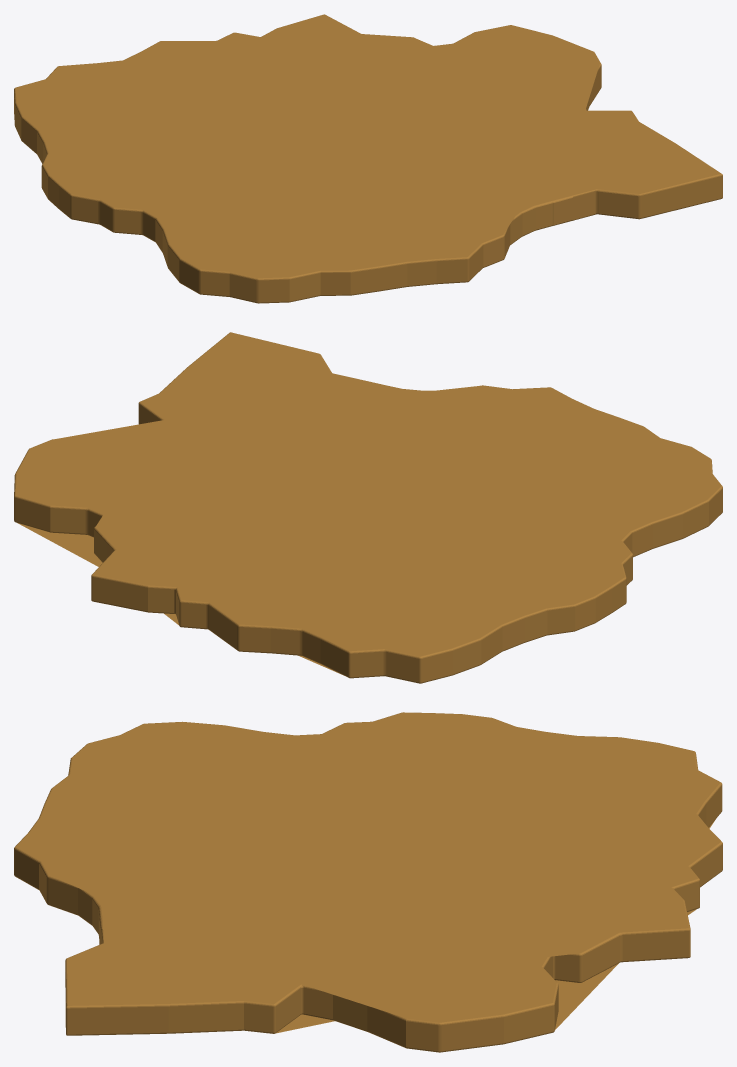
Rendered from AutumnContinentLatest.fbx.
The picture shows the model from 3 angles, top to bottom: view 1: azimuth 30°, elevation 25°; view 2: azimuth 150°, elevation 25°; view 3: azimuth 270°, elevation 25°; orthographic projection. The views are drawn at different scales.
Parts seen in each view (by area): view 1: Autumn Continent; view 2: Autumn Continent; view 3: Autumn Continent.
Boxes of the visible parts, bbox=[...] form: Autumn Continent: bbox=[14, 14, 722, 303]; Autumn Continent: bbox=[14, 332, 722, 683]; Autumn Continent: bbox=[14, 712, 722, 1052].
Bounding box in the file's own units: 82.34 × 3.66 × 79.15.
